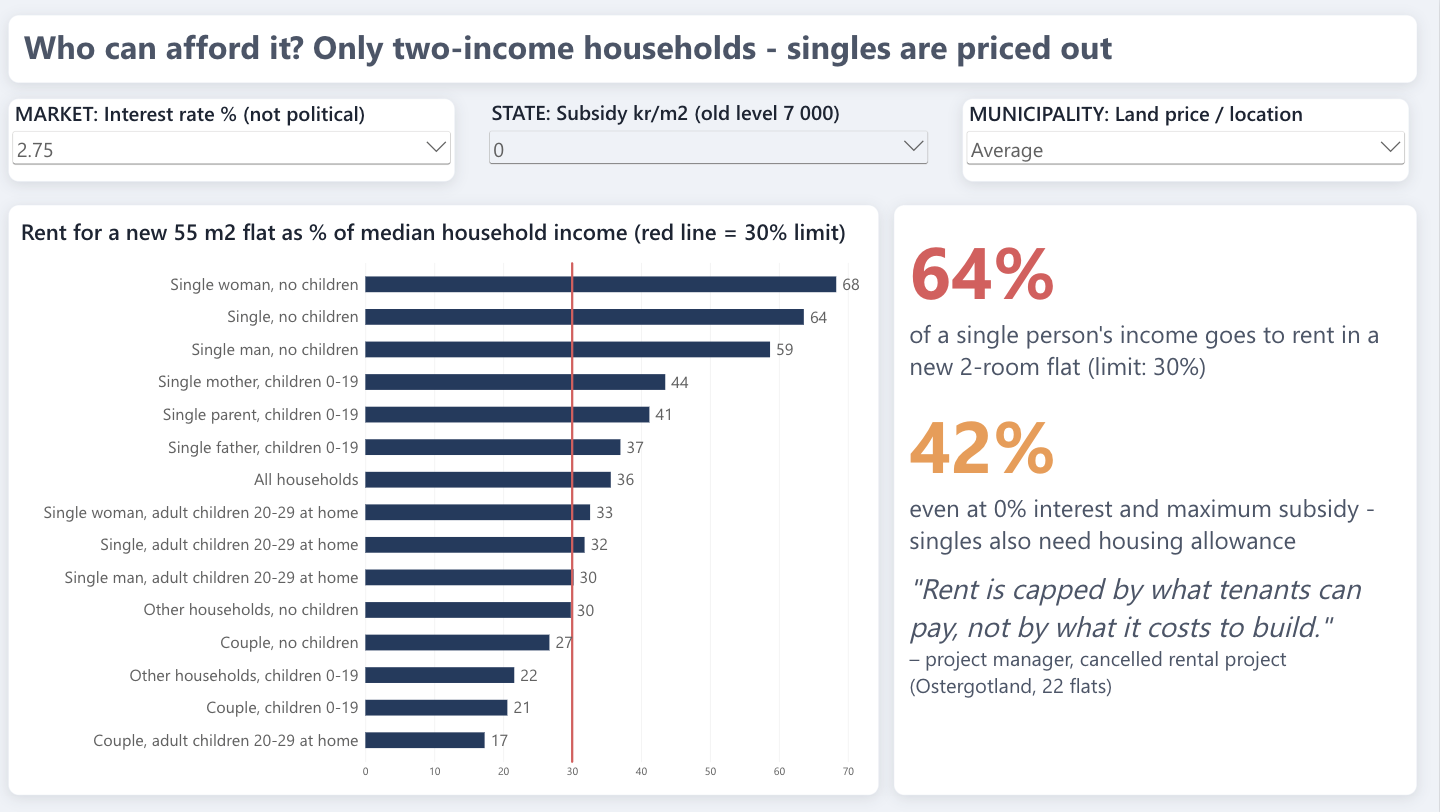

Layout of this report page (visuals, bound fields, positions):
{"tool":"powerbi","page":{"name":"4. Who can afford it?","canvas":[1920,1080],"ordinal":4},"visuals":[{"type":"clusteredBarChart","title":"Rent for a new 55 m2 flat as % of median household income (red line = 30% limit)","fields":{"Category":["affordability.Household type"],"Y":["Avg(affordability.rent_share_pct)"]},"box":[30,270,1150,780],"z":0},{"type":"slicer","fields":{"Values":["affordability.interest_rate"]},"box":[30,130,590,110],"z":1000},{"type":"slicer","fields":{"Values":["affordability.subsidy_per_m2"]},"box":[660,130,590,110],"z":2000},{"type":"slicer","fields":{"Values":["affordability.Area"]},"box":[1290,130,590,110],"z":3000},{"type":"textbox","box":[1200,270,691,780],"z":4000},{"type":"textbox","box":[30,20,1861,90],"z":5000}]}

Visuals, with their boxes in screenshot pixels (x1, y1, x2, y2), scaled from the page's 1920x1080 canvas onto the 1440x812 screenshot:
"Rent for a new 55 m2 flat as % of median household income (red line = 30% limit)" clusteredBarChart: detection(22, 203, 885, 789)
slicer - affordability.interest_rate: detection(22, 98, 465, 180)
slicer - affordability.subsidy_per_m2: detection(495, 98, 938, 180)
slicer - affordability.Area: detection(968, 98, 1410, 180)
textbox: detection(900, 203, 1418, 789)
textbox: detection(22, 15, 1418, 83)
